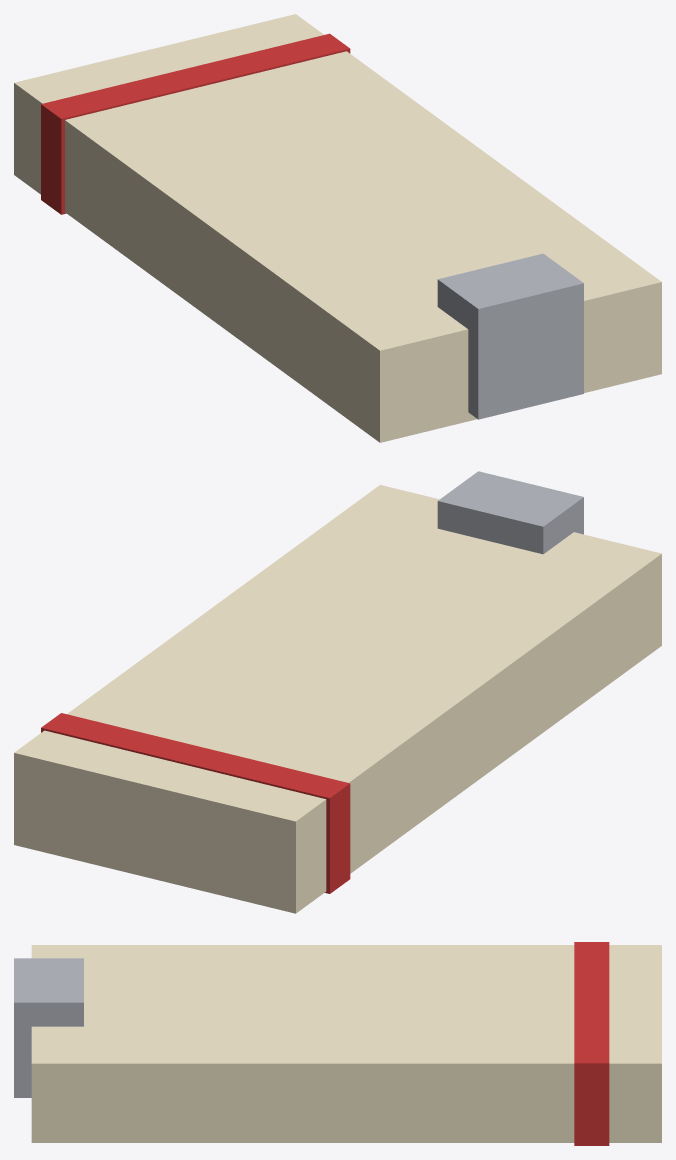
The model's file is time_cards.glb.
The picture shows the model from 3 angles, top to bottom: view 1: azimuth 30°, elevation 25°; view 2: azimuth 150°, elevation 25°; view 3: azimuth 270°, elevation 25°; orthographic projection. The views are drawn at different scales.
Parts seen in each view (by area): view 1: stack_card_cream, clip_clip_steel, stripe_card_red; view 2: stack_card_cream, stripe_card_red, clip_clip_steel; view 3: stack_card_cream, stripe_card_red, clip_clip_steel.
Boxes of the visible parts, <box> form: stack_card_cream: <box>14,14,661,442</box>; clip_clip_steel: <box>437,253,583,419</box>; stripe_card_red: <box>41,33,350,214</box>; stack_card_cream: <box>14,485,661,913</box>; stripe_card_red: <box>41,713,350,893</box>; clip_clip_steel: <box>437,471,583,554</box>; stack_card_cream: <box>31,945,661,1142</box>; stripe_card_red: <box>574,942,609,1145</box>; clip_clip_steel: <box>14,958,83,1097</box>.
Bounding box in the file's own units: 0.082 × 0.033 × 0.185.
